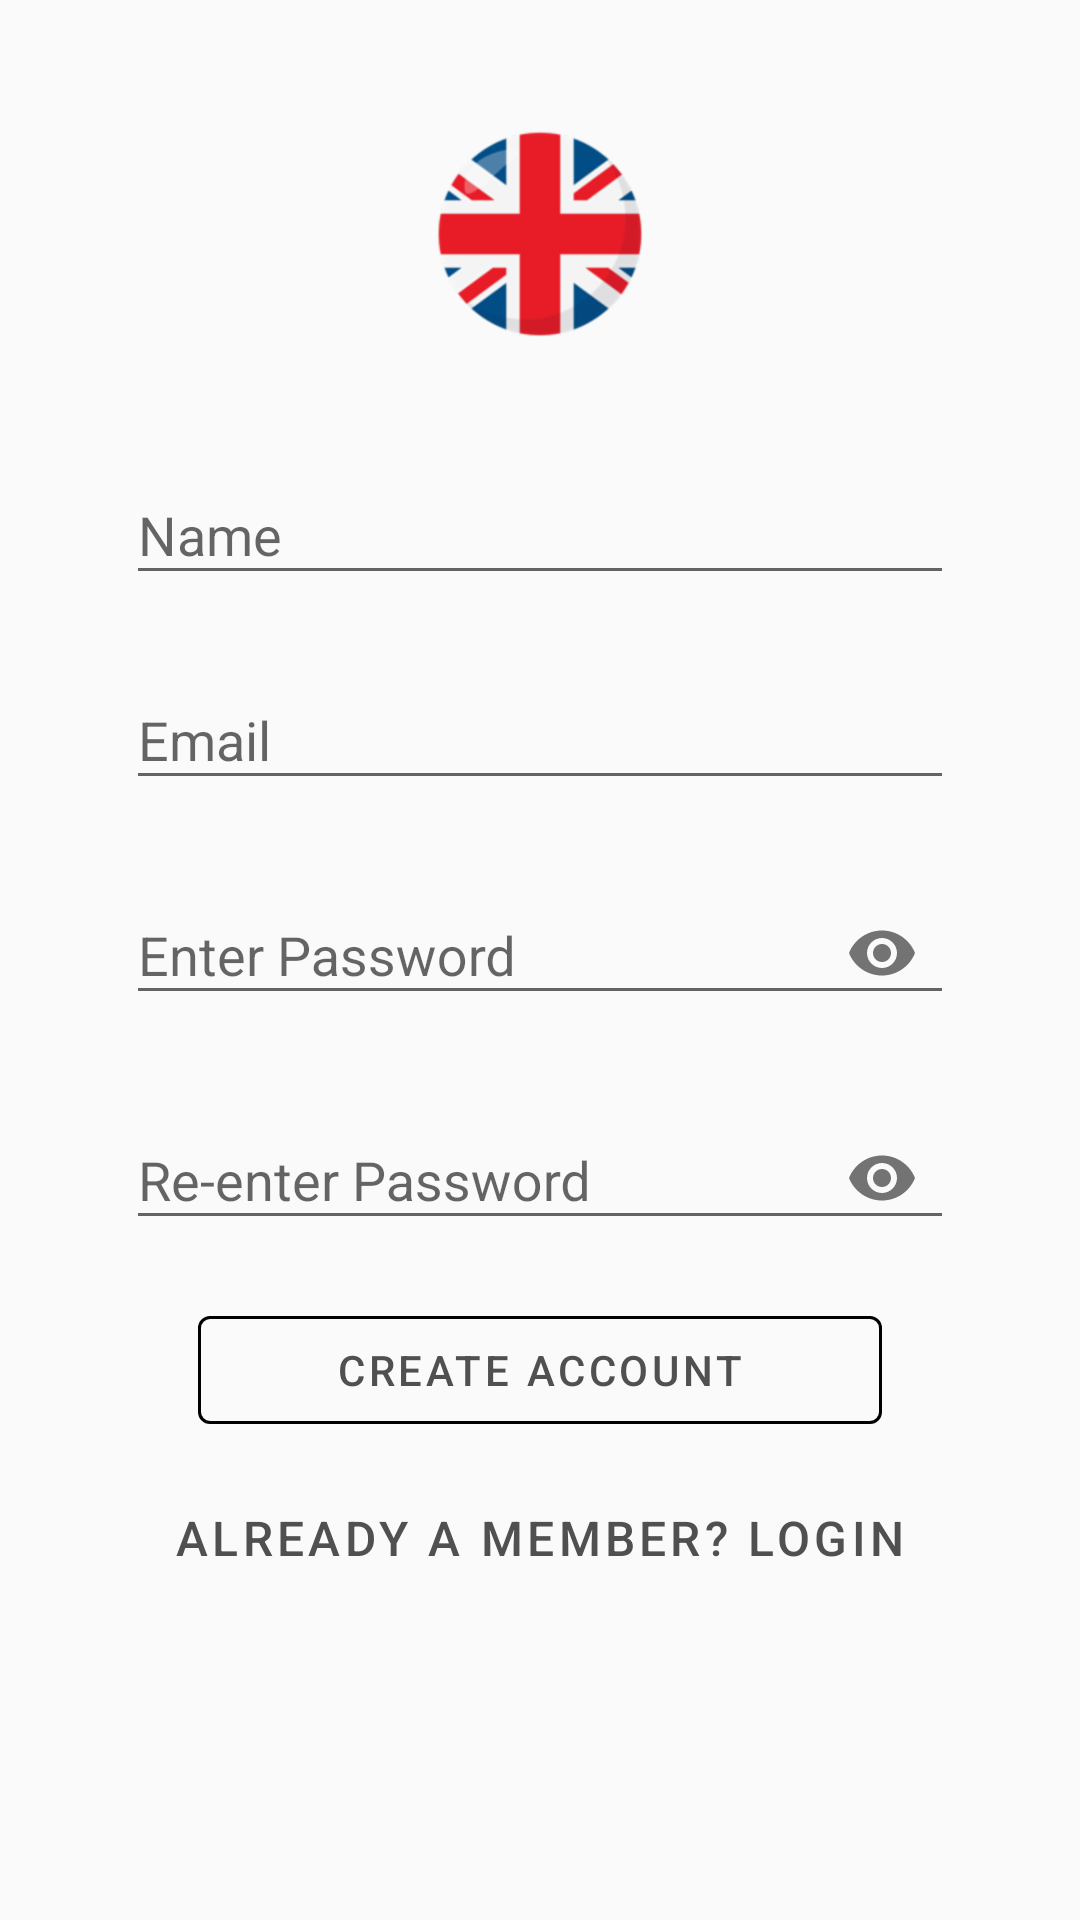

Locate icon controls on the screen. Image size 1080x1920, boxes as (x1, y1, x2, y2).
flag gb: (438, 132, 642, 336)
